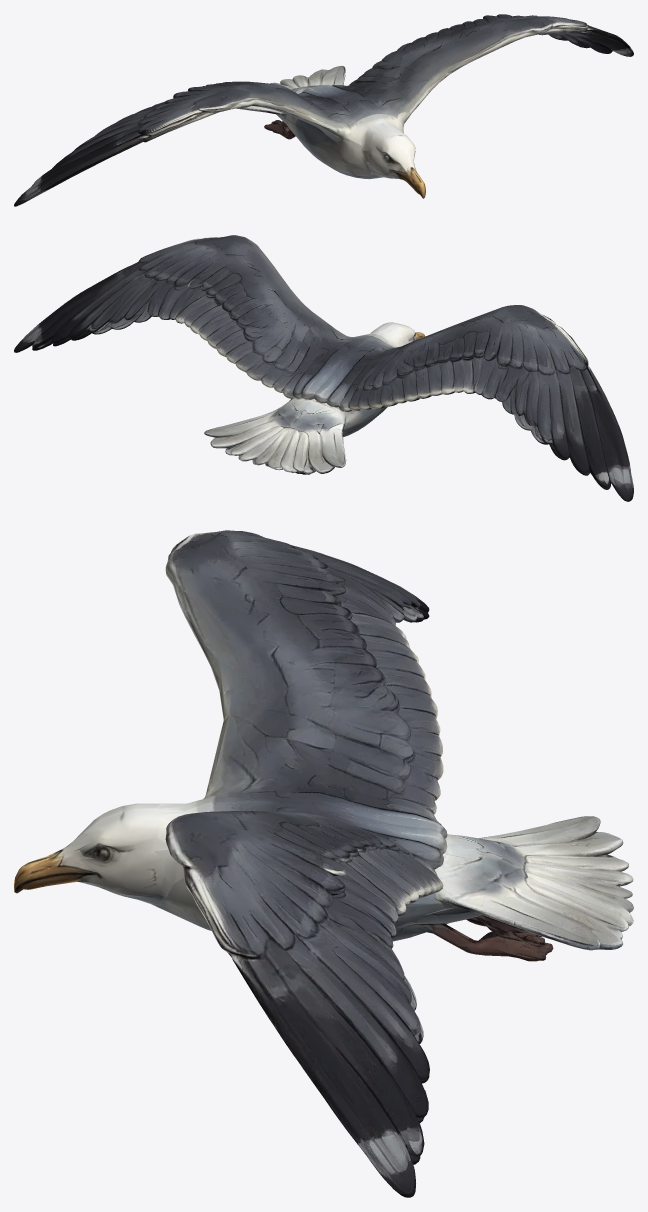
The model's file is seagull.glb.
3 views of the same model, one above another, from view 1: azimuth 30°, elevation 25°; view 2: azimuth 150°, elevation 25°; view 3: azimuth 270°, elevation 25° (orthographic). The views are drawn at different scales.
Size of the model in its own units: 1.9 by 0.3943 by 0.8549.
Materials: 1 (1 with a texture image).
